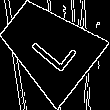L_NW: (20, 19, 77, 75)
